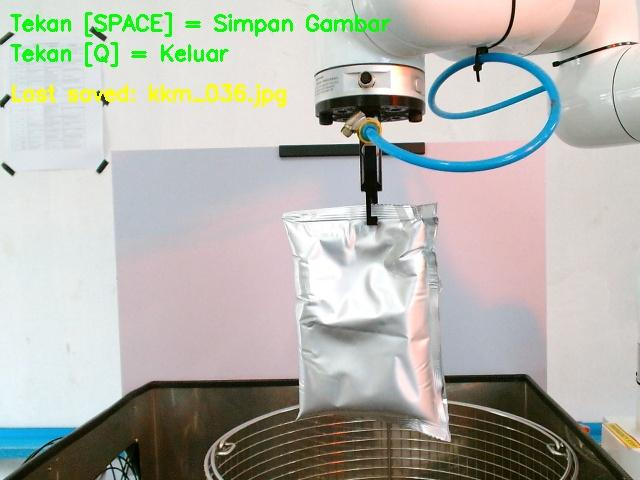retort-pouch: (279, 203, 449, 437)
